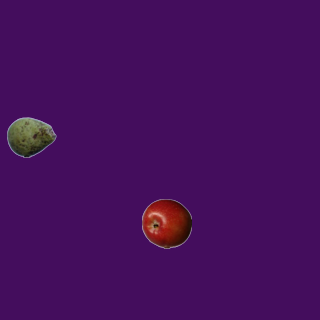Apple Braeburn: (141, 198, 191, 248)
Pear Stone: (6, 112, 56, 162)
